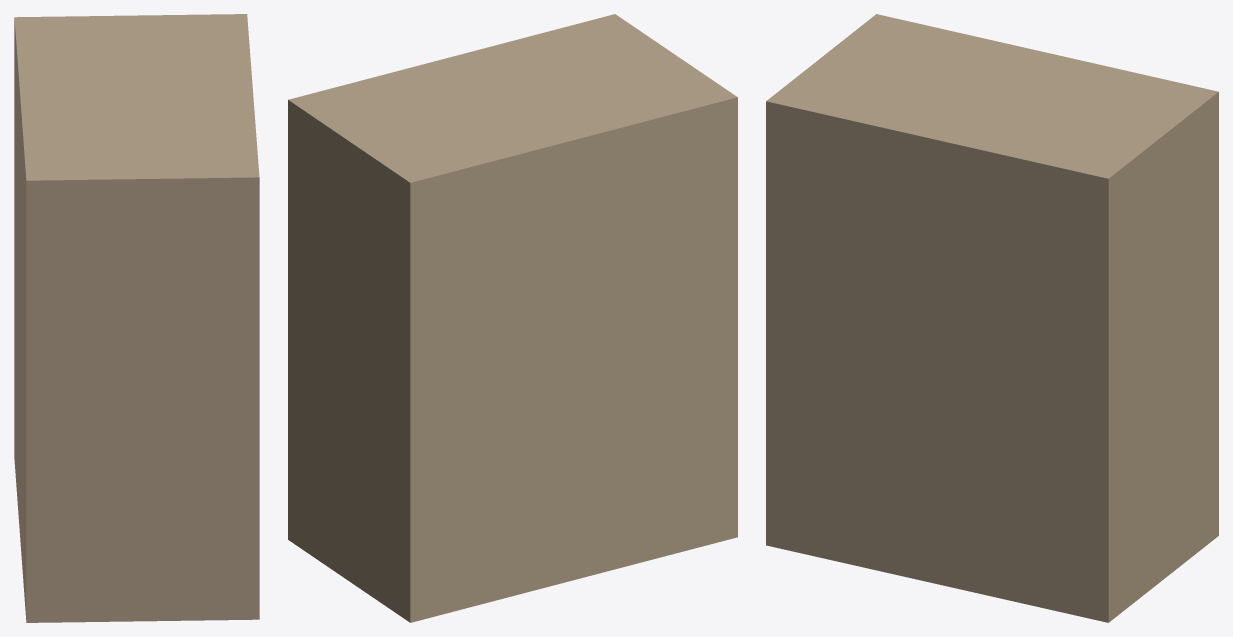
Rendered from bld_99520031.dae.
3 views of the same model, side by side, from view 1: azimuth 30°, elevation 25°; view 2: azimuth 150°, elevation 25°; view 3: azimuth 270°, elevation 25° (orthographic).
Visible parts, largest first — view 1: bld_99520031; view 2: bld_99520031; view 3: bld_99520031.
Part boxes in pixels (x1,y1,x2,y2): bld_99520031: [14, 14, 259, 622]; bld_99520031: [288, 14, 737, 622]; bld_99520031: [766, 14, 1218, 622].
Bounding box in the file's own units: 6.37 × 7.39 × 8.
